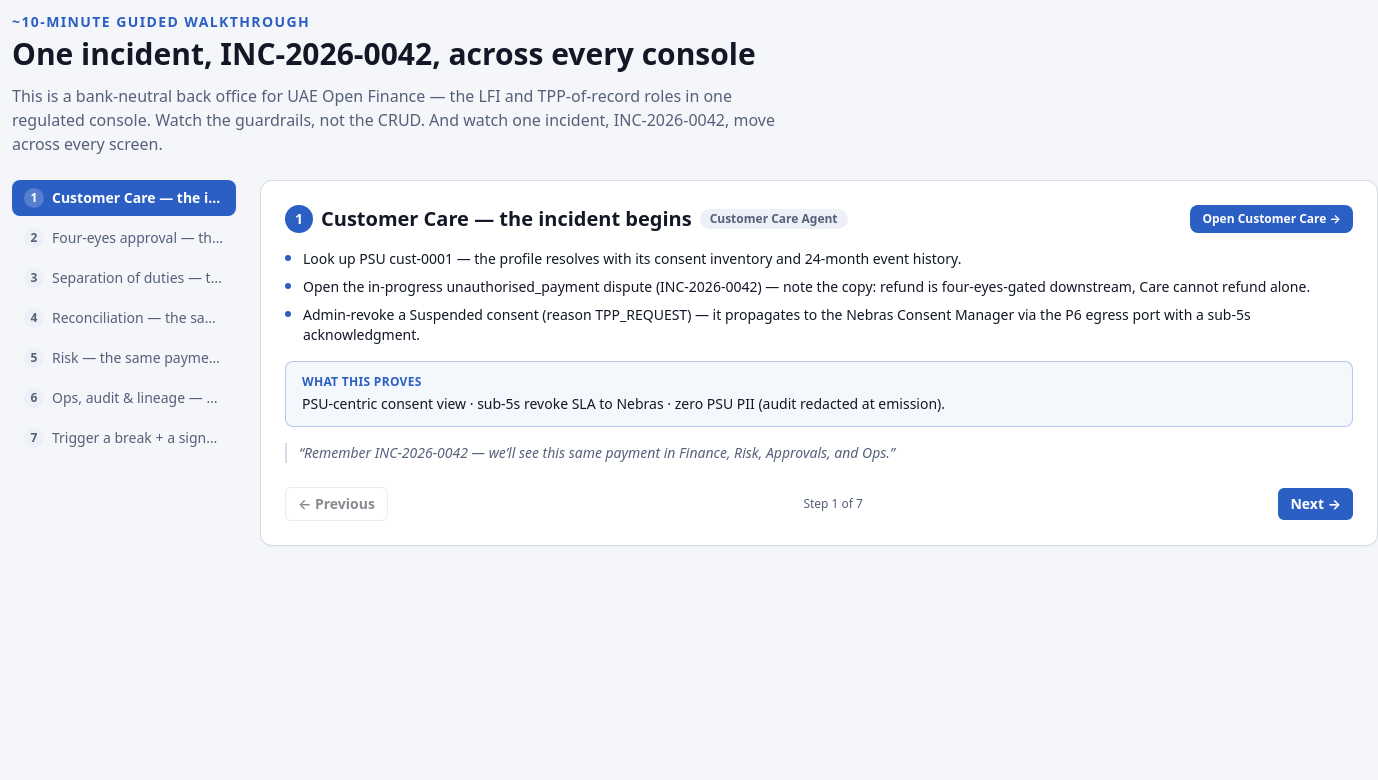
DemoWalkthrough › jumps directly to a step from the rail
Click the button with test id "step-tab-risk" at (124, 358), box x1=12 y1=340 x2=236 y2=376
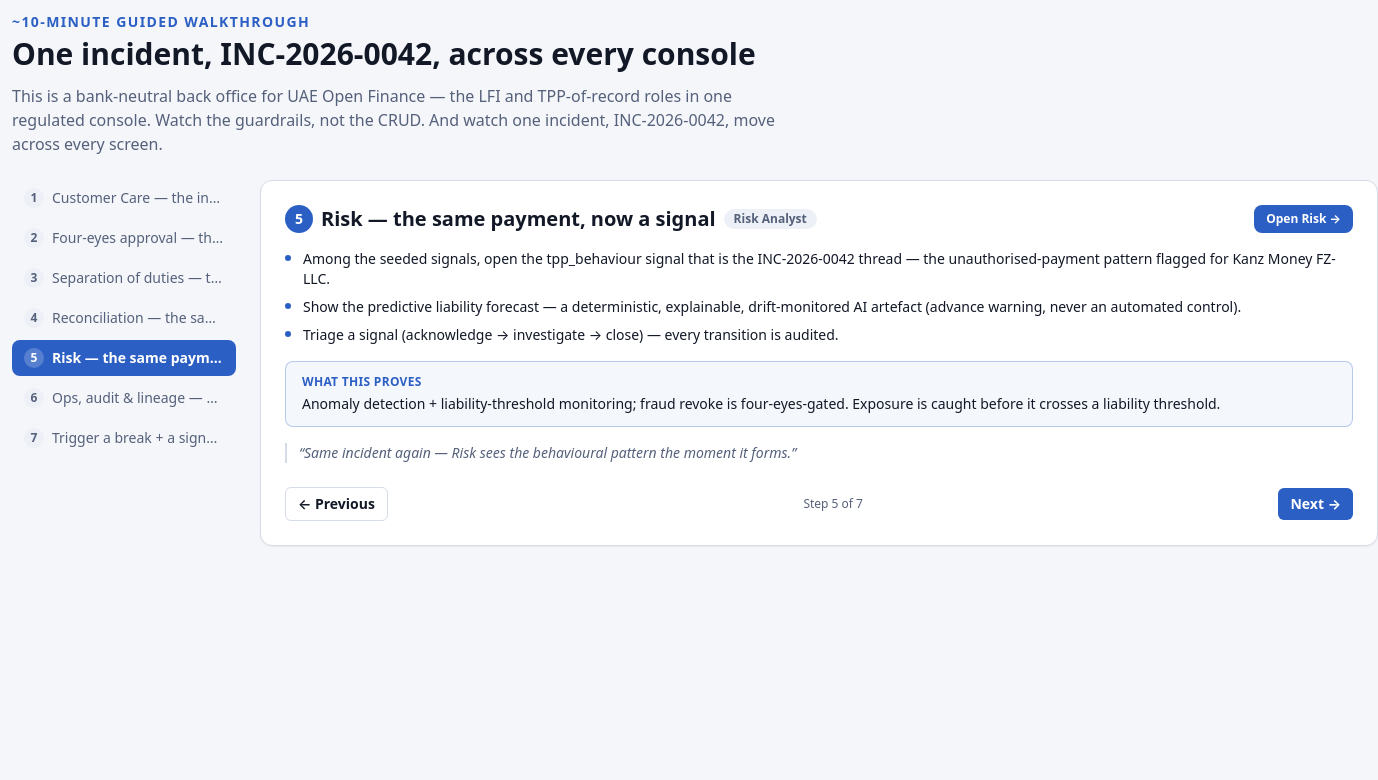
Check: the element with test id "step-panel-risk" is shown, box x1=260 y1=180 x2=1377 y2=546
